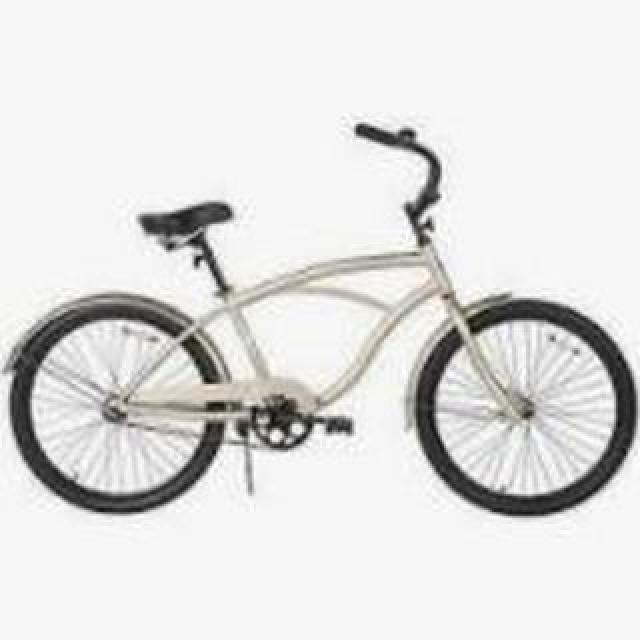Person: (11, 125, 637, 519)
